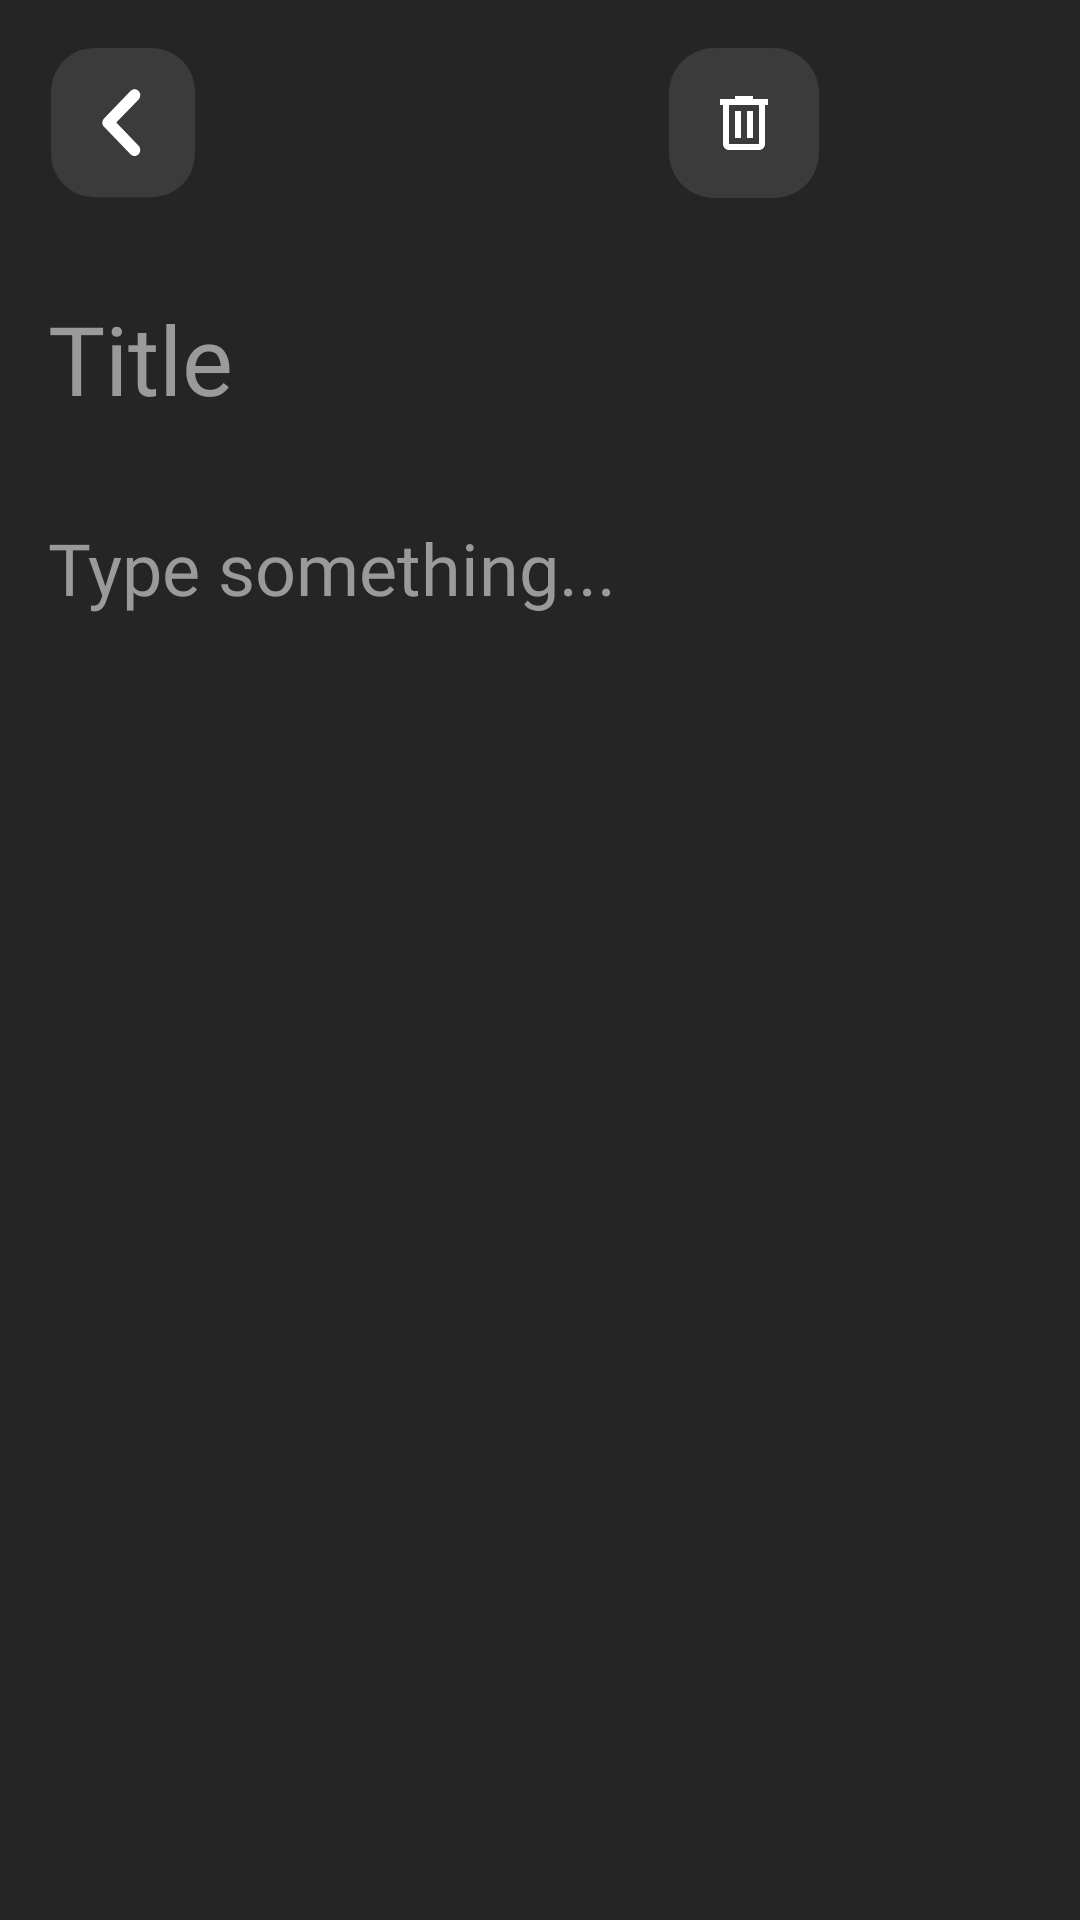

Icon bounding boxes for this 1080px x 1920px phone screenshot, format [x1,y1,x2,y2]:
chevron left: [51,48,195,197]
delete: [720,96,768,150]
